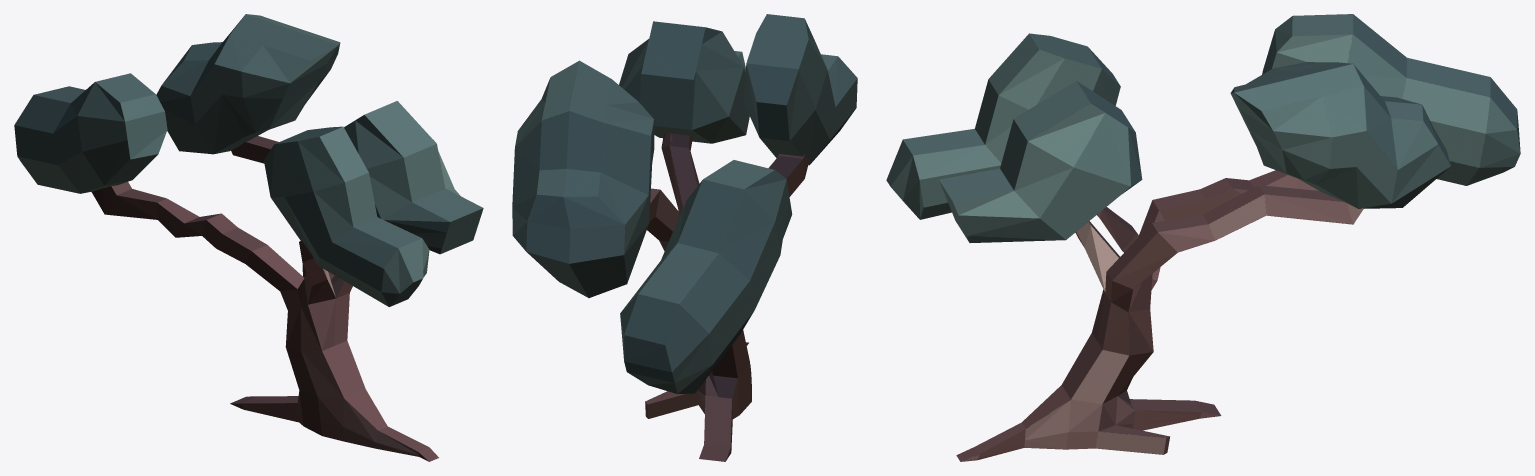
File: Mastic2.obj
3 renders of one model, left to right at view 1: azimuth 30°, elevation 25°; view 2: azimuth 150°, elevation 25°; view 3: azimuth 270°, elevation 25°, orthographic. The views are drawn at different scales.
Visible parts, largest first — view 1: Mastic2; view 2: Mastic2; view 3: Mastic2.
Part boxes in pixels (<box>): Mastic2: <box>14,14,483,461</box>; Mastic2: <box>512,14,857,461</box>; Mastic2: <box>886,14,1520,461</box>.
Size of the model in its own units: 6.18 by 7.71 by 11.54.
2 materials, 2 textured.
